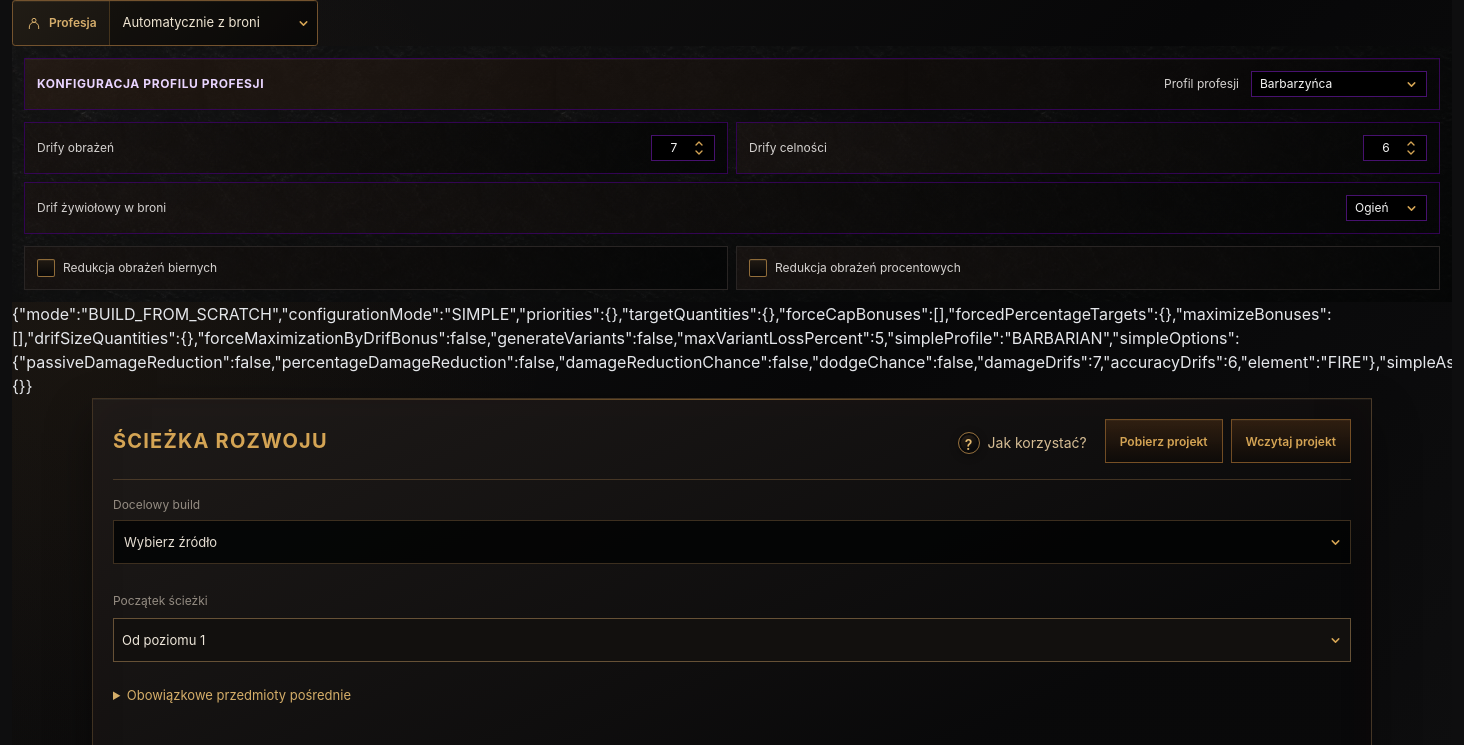
Test: shares manual choices in both directions, sends the matching optimizer profile and persists on remount
Later steps or results of the test are not shown.
Select "Mag Ognia" in the 1st dropdown labelled "Profesja" at (213, 23), box [109,1,317,45]
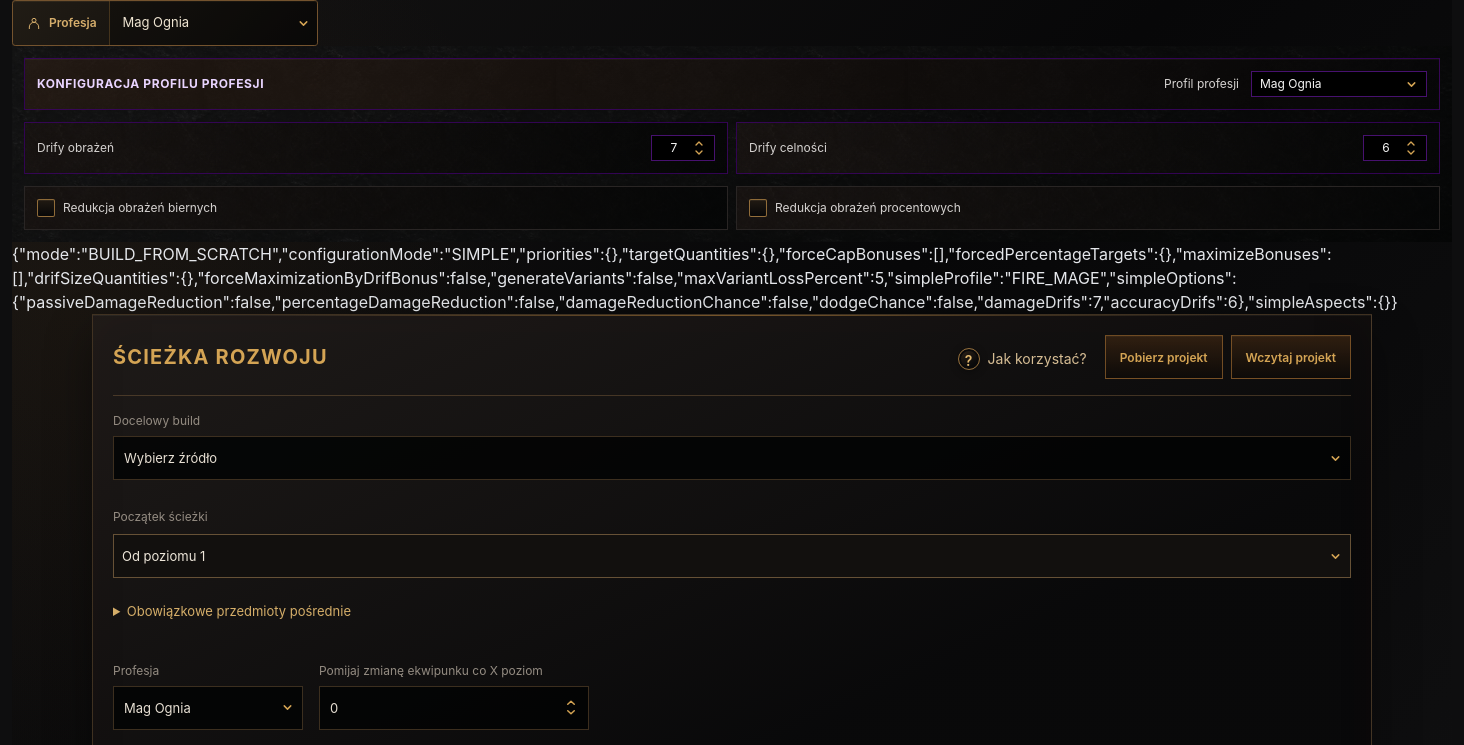
Result: the dropdown named "Profil prostego optymalizatora" shows "Mag Ognia"
Result: the dropdown labelled "Profesja" below "Pomijaj zmianę ekwipunku co X poziom" shows "Mag Ognia" at [113,686,303,730]
Select "Rycerz" in the dropdown named "Profil prostego optymalizatora" at (1339, 84), box [1251,71,1427,97]
(page scrolled)
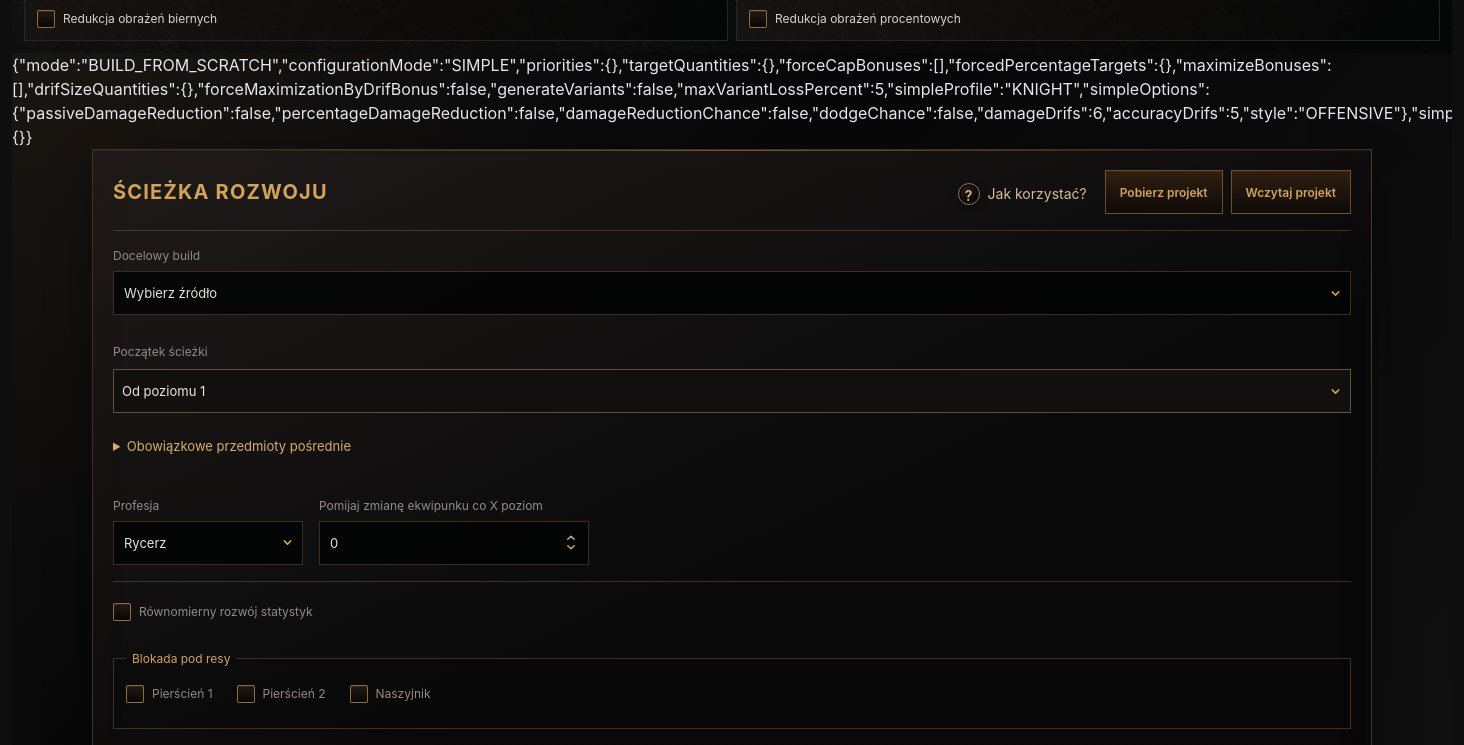
Result: the dropdown labelled "Profesja" shows "Rycerz" at [113,520,303,564]
